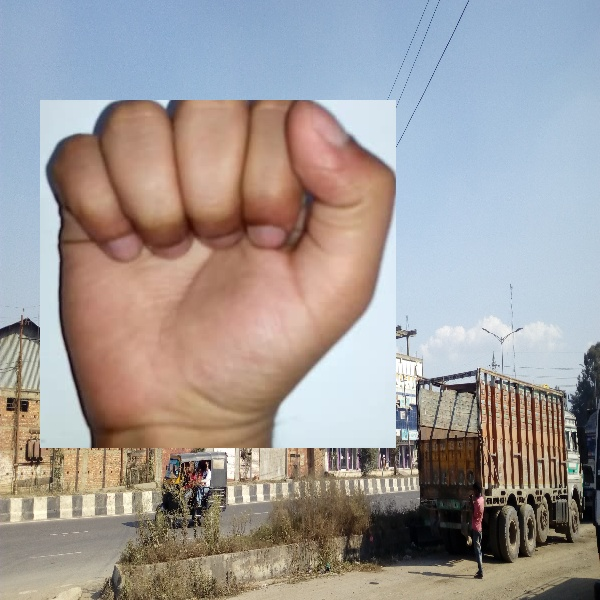A: (40, 100, 396, 448)
